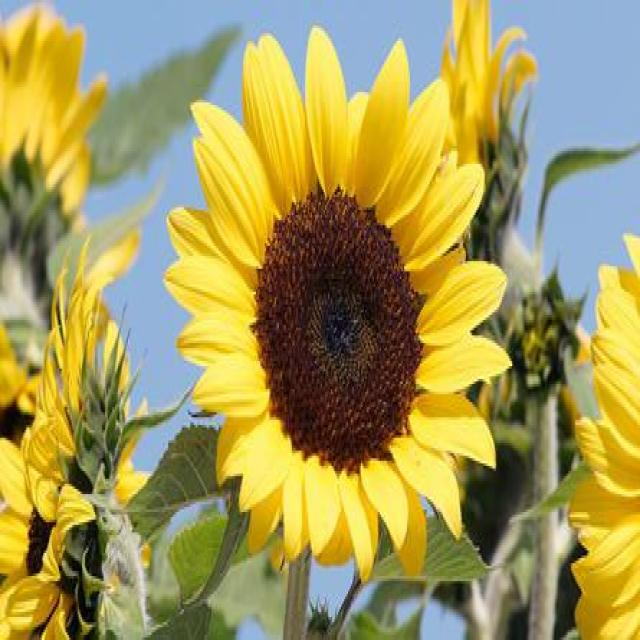sunflower: (161, 12, 516, 590), (0, 248, 138, 640)
